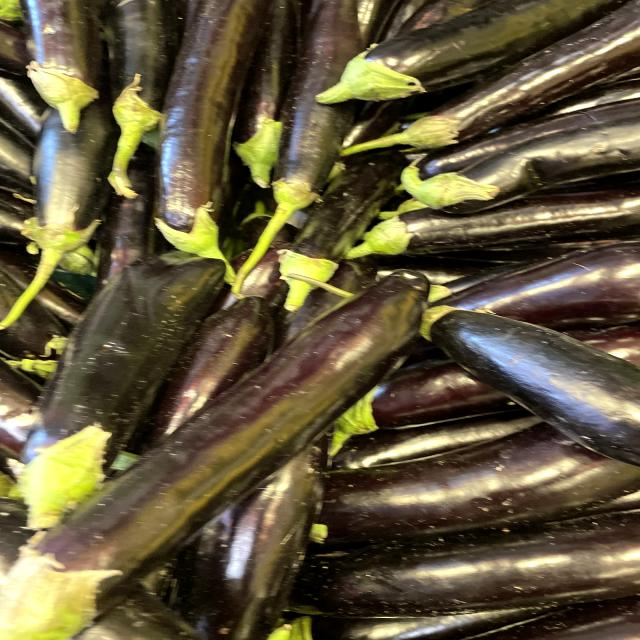eggplant: (0, 265, 451, 640), (0, 236, 249, 533), (300, 2, 640, 106), (141, 0, 275, 259), (2, 93, 126, 322), (341, 189, 640, 267)
